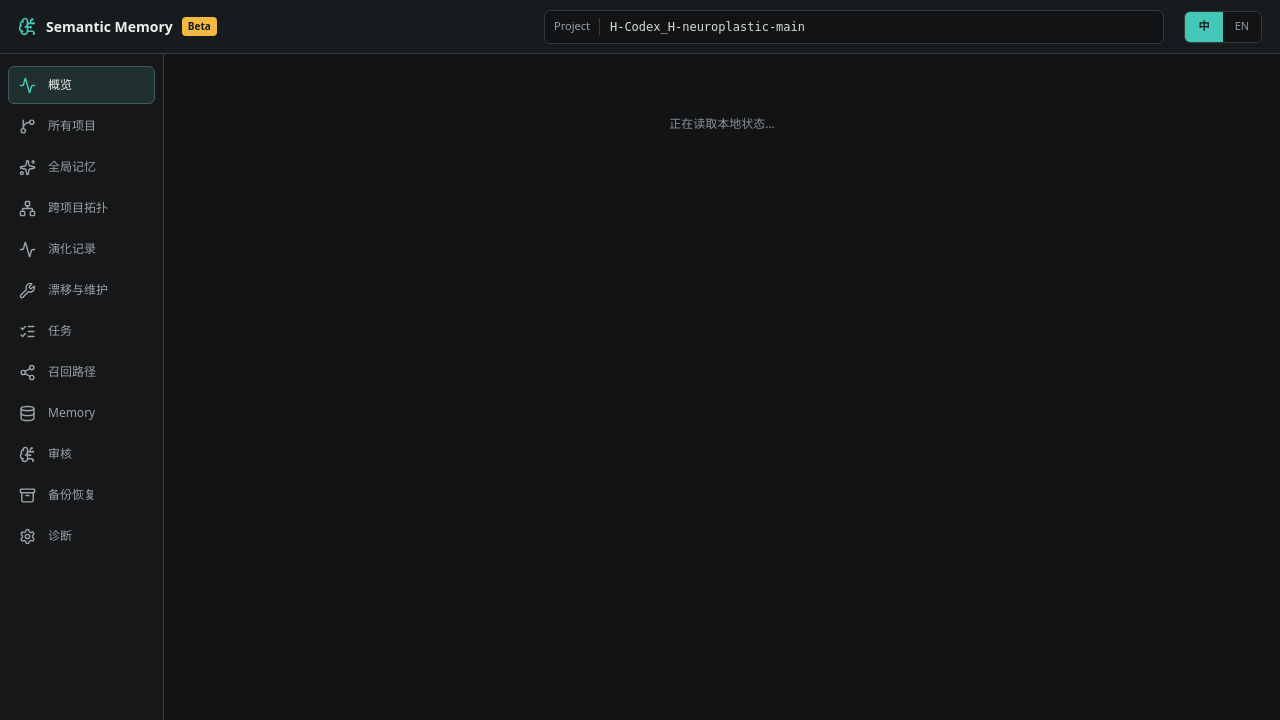
it: Stage14 global Manager views › renders global operations and preserves project provenance
Click the button "所有项目": (82, 126) x1=8 y1=107 x2=155 y2=145
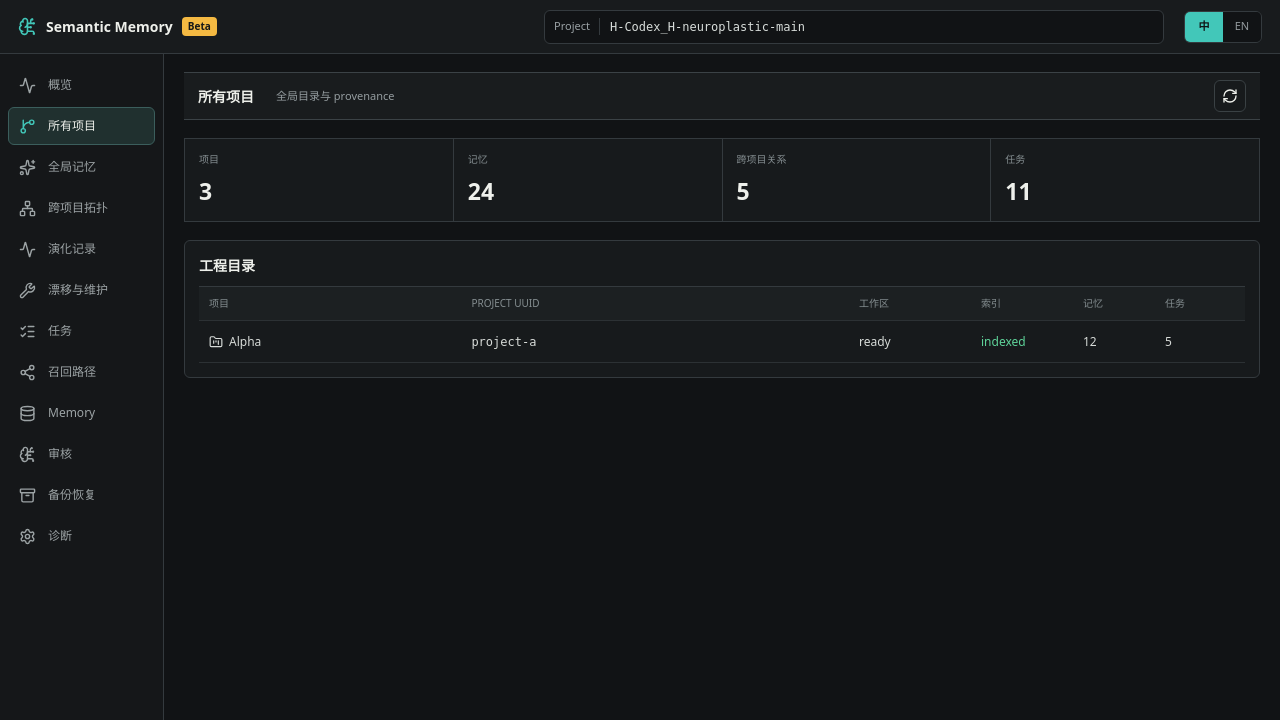
expect the text "Alpha" is shown: met, box x1=209 y1=332 x2=261 y2=350
expect the text "3" is shown: met, box x1=199 y1=175 x2=212 y2=207
expect the text "indexed" is shown: met, box x1=981 y1=332 x2=1026 y2=350
